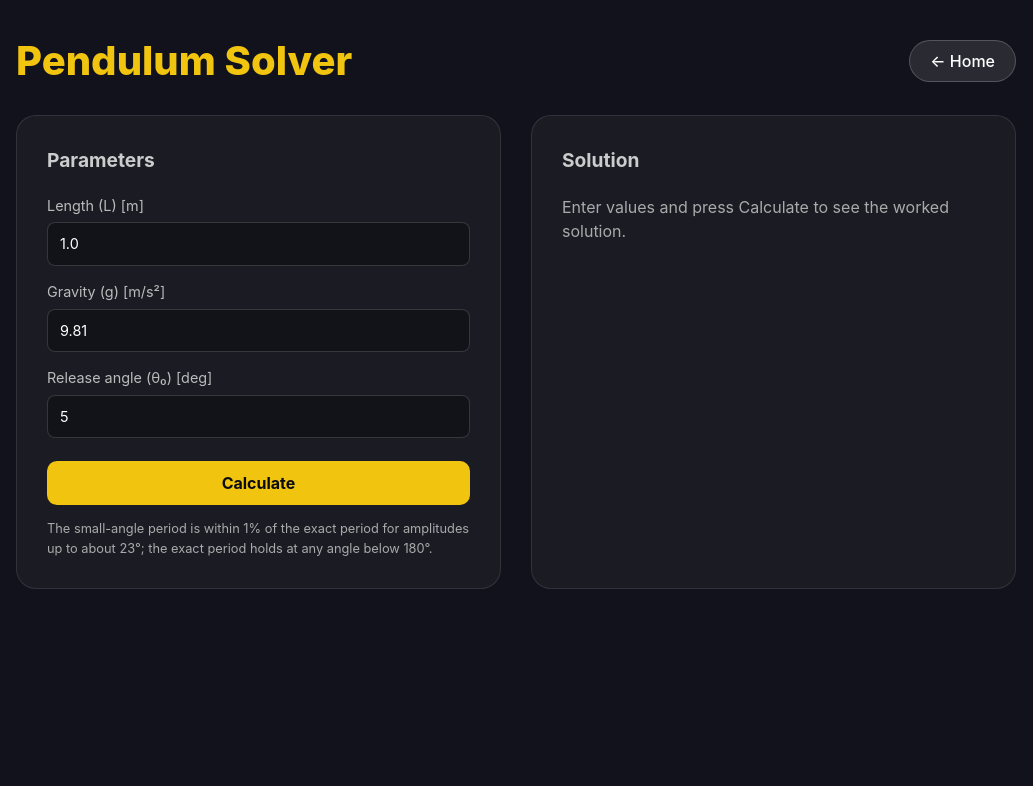
Test case: Simulate this › explains when the lab cannot show the solved problem
Expected: the heading "Pendulum Solver" is shown, [16, 39, 352, 83]
Replace the text in the number field labelled "Release angle (θ₀) [deg]" with "120" at (258, 417), box [47, 395, 470, 438]
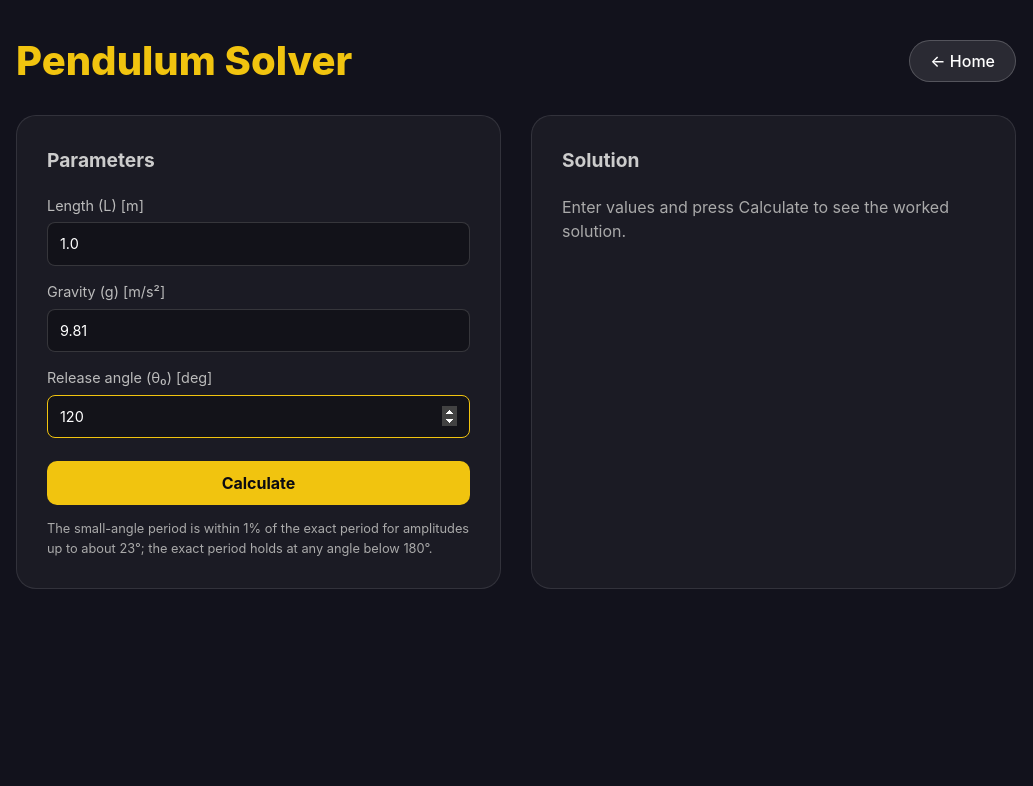
Click the button "Calculate" at (258, 483), box [47, 461, 470, 505]
(page scrolled)
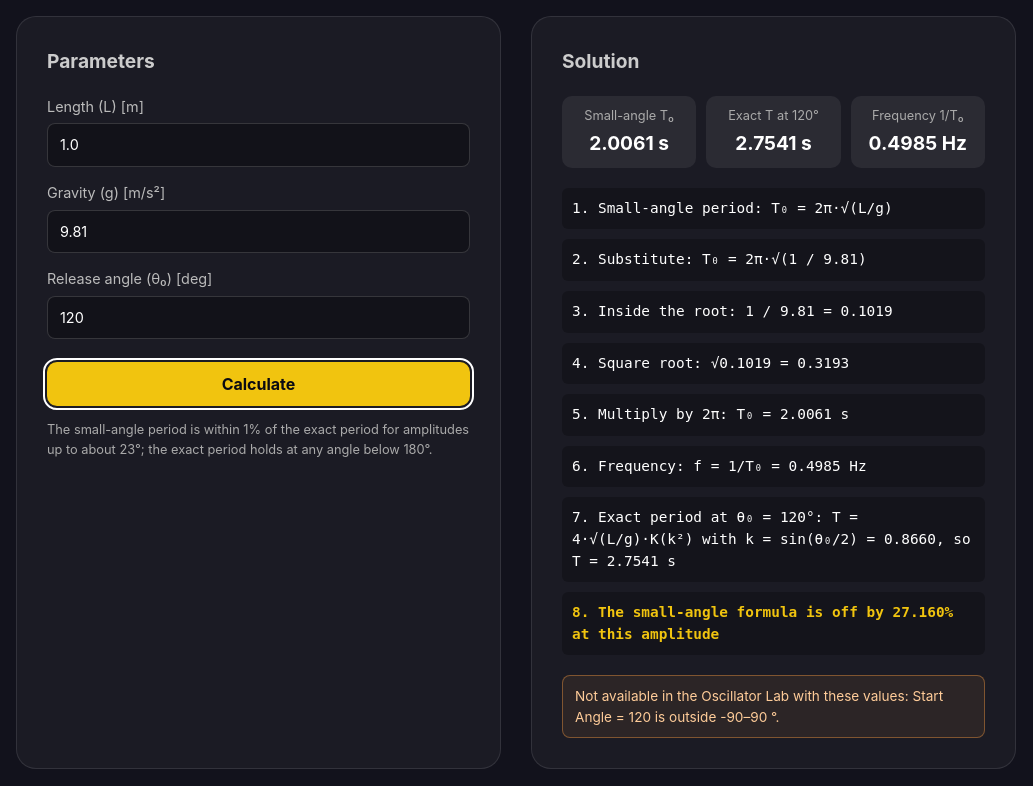
Now the text "Start Angle = 120 is outside -90–90 °" is shown, box [575, 688, 943, 725]
